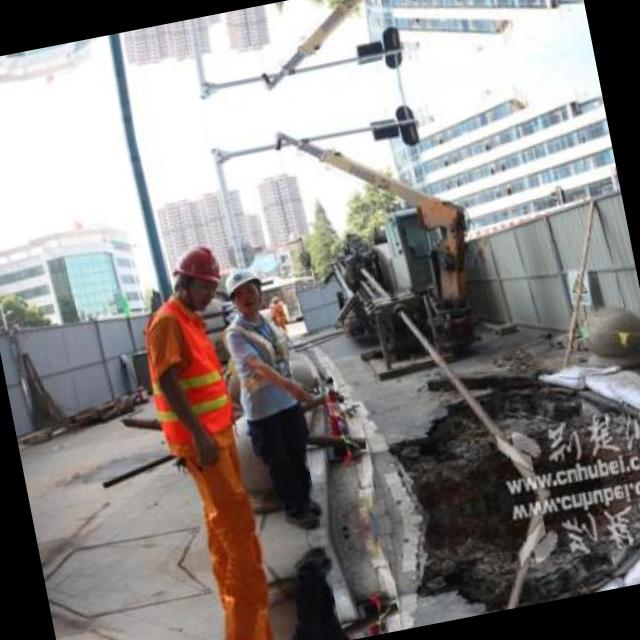helmet: (164, 234, 229, 312), (214, 252, 278, 326)
